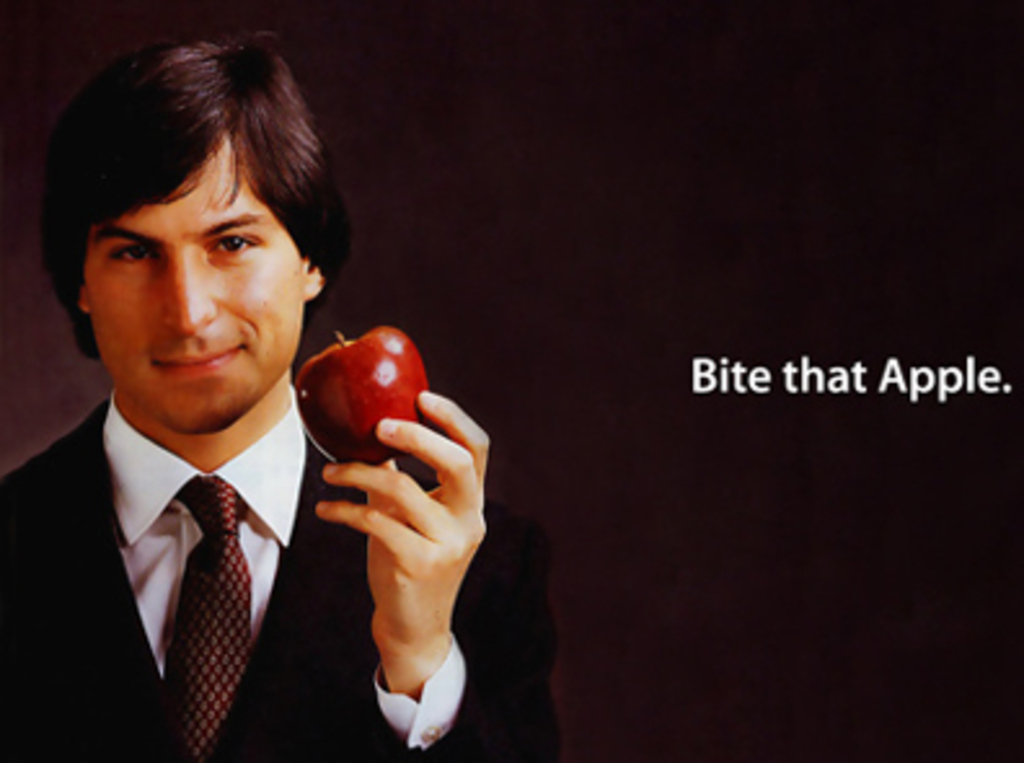Apple: (294, 325, 429, 465)
